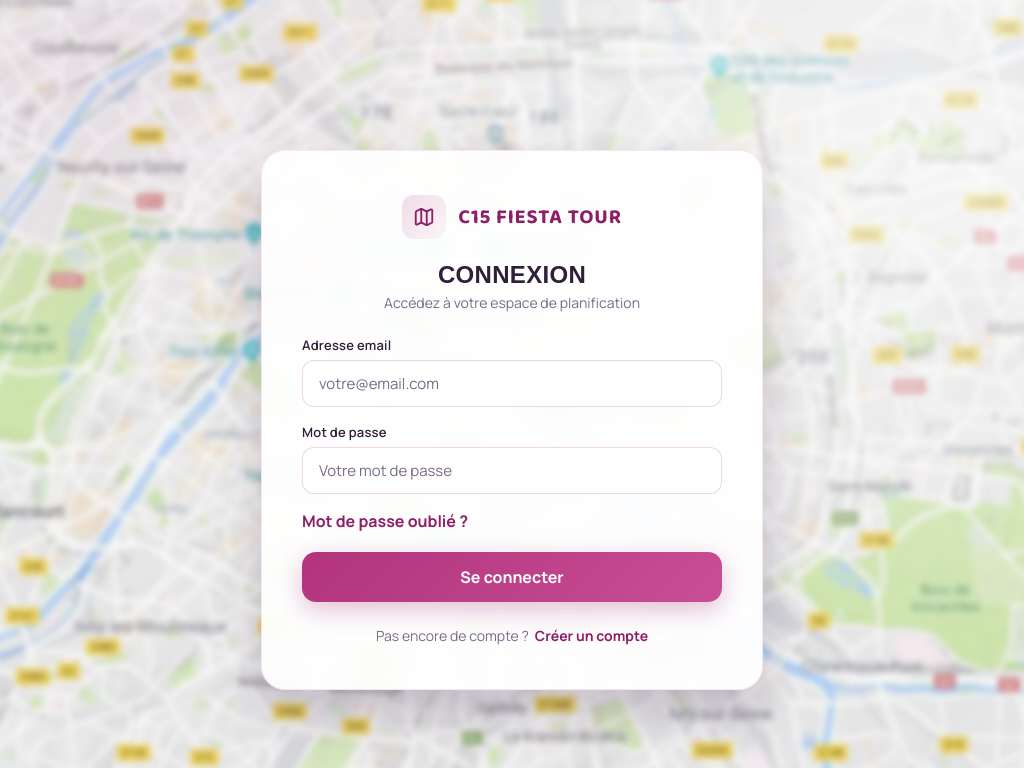
Test case: LoginPage › affiche une erreur si les identifiants sont incorrects
Type "bad@example.com" into the field labelled "Adresse email".
click(512, 384); type("bad@example.com")  # box [302, 360, 722, 407]
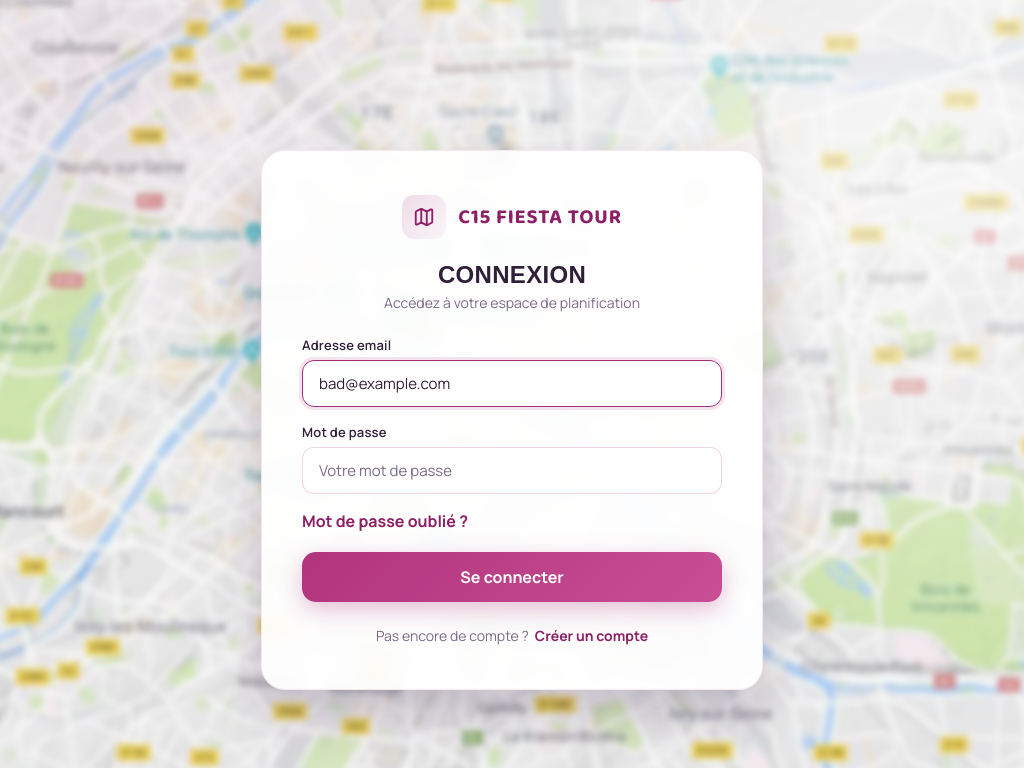
Type "wrong" into the password field labelled "Mot de passe".
click(512, 470); type("wrong")  # box [302, 447, 722, 494]
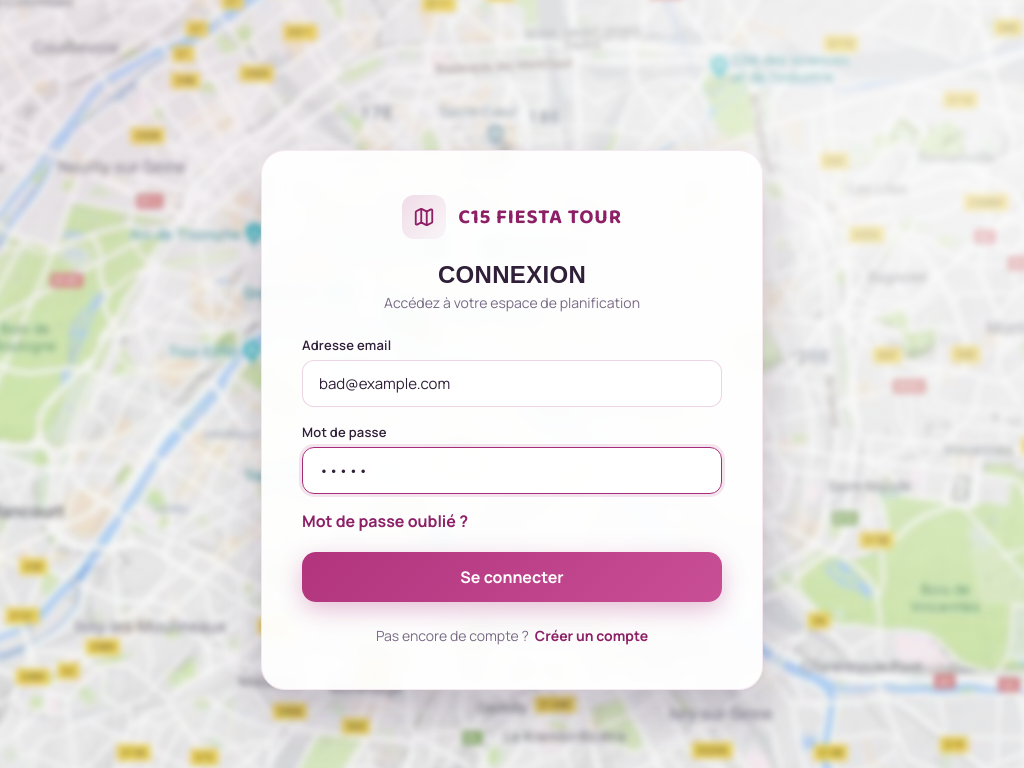
Click the button "Se connecter".
click(512, 577)  # box [302, 552, 722, 602]
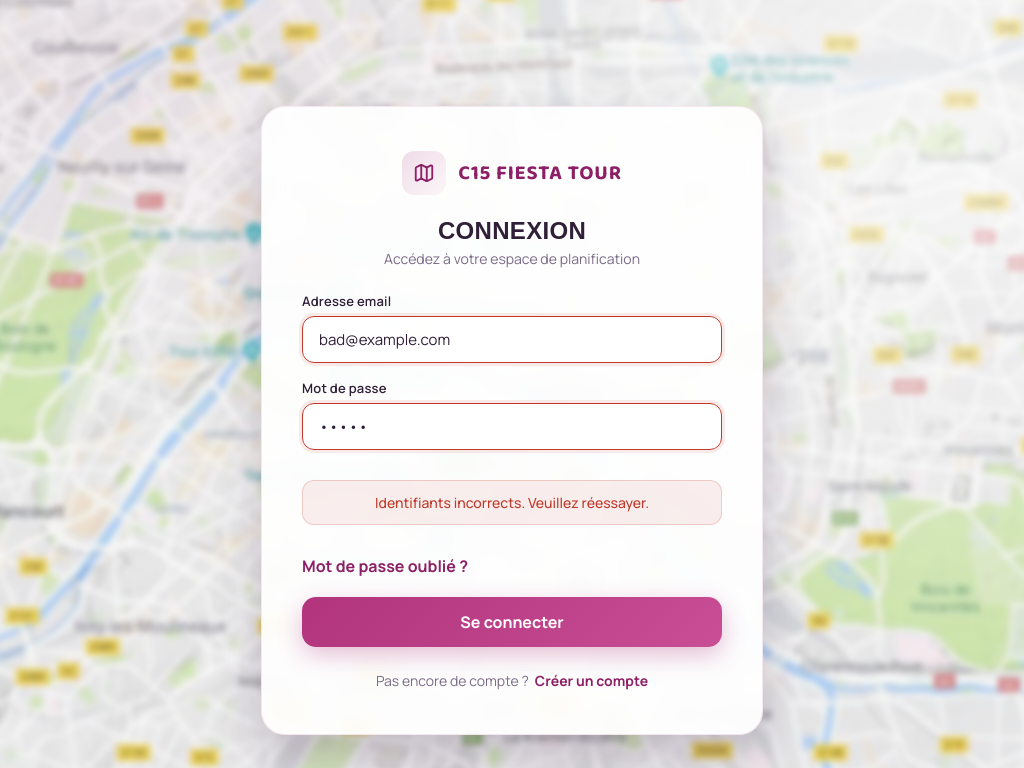
Now the text "Identifiants incorrects. Veuillez réessayer." is shown, box [302, 480, 722, 524]
